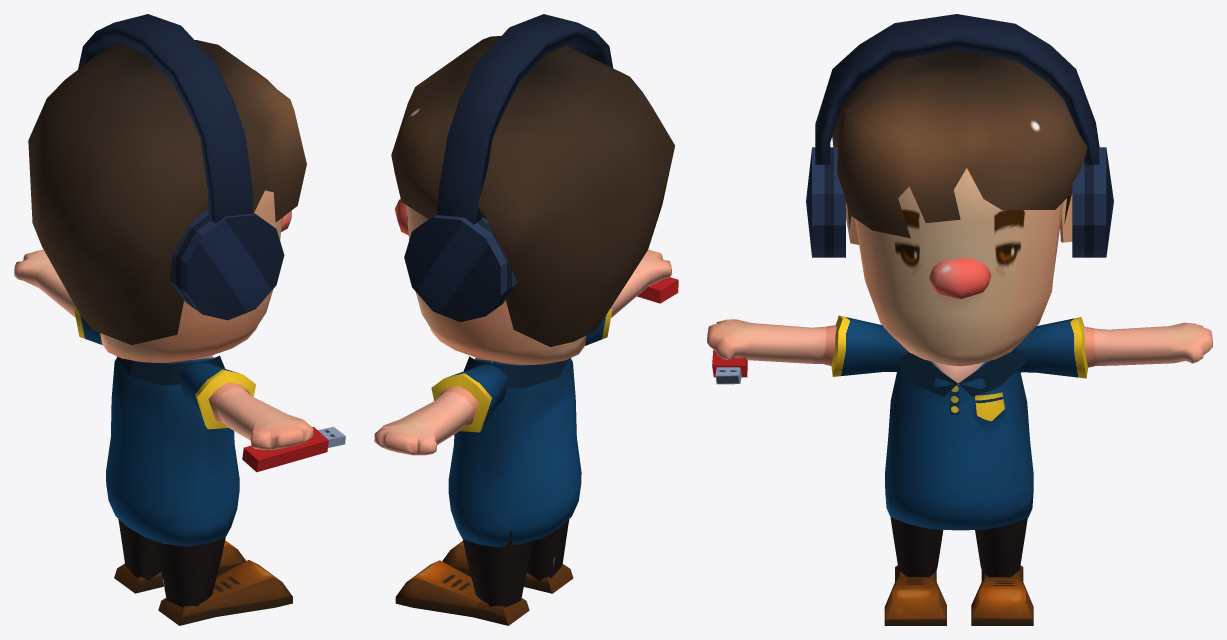
File: Char_Cre_Ent_03.fbx
3 renders of one model, left to right at view 1: azimuth 30°, elevation 25°; view 2: azimuth 150°, elevation 25°; view 3: azimuth 270°, elevation 25°, orthographic.
Visible parts, largest first — view 1: Hair_Editor, Headset_Editor, Body_Editor, R_Leg_Editor, R_Arm_Editor, Head_Editor, L_Leg_Editor, L_Arm_Editor, Board_Editor, Collar_Editor; view 2: Hair_Editor, Headset_Editor, Body_Editor, L_Leg_Editor, L_Arm_Editor, Head_Editor, R_Leg_Editor, R_Arm_Editor, Collar_Editor, Board_Editor; view 3: Hair_Editor, Head_Editor, Body_Editor, Headset_Editor, L_Arm_Editor, R_Arm_Editor, R_Leg_Editor, L_Leg_Editor, Collar_Editor, Nose_Editor, Board_Editor.
Part boxes in pixels (x1,y1,x2,y2): Hair_Editor: (28,40,306,345); Headset_Editor: (78,14,284,320); Body_Editor: (106,355,239,546); R_Leg_Editor: (154,537,292,625); R_Arm_Editor: (177,362,313,449); Head_Editor: (100,190,282,362); L_Leg_Editor: (114,519,245,593); L_Arm_Editor: (14,249,102,344); Board_Editor: (242,426,345,472); Collar_Editor: (117,355,224,385); Hair_Editor: (391,36,674,346); Headset_Editor: (404,14,612,322); Body_Editor: (448,357,581,547); L_Leg_Editor: (395,531,533,625); L_Arm_Editor: (374,365,509,455); Head_Editor: (406,205,586,364); R_Leg_Editor: (442,519,573,593); R_Arm_Editor: (585,249,671,345); Collar_Editor: (464,356,568,388); Board_Editor: (637,277,678,303); Hair_Editor: (832,49,1087,238); Head_Editor: (855,168,1063,366); Body_Editor: (885,360,1033,530); Headset_Editor: (806,14,1113,257); L_Arm_Editor: (1014,317,1212,378); R_Arm_Editor: (707,315,907,376); R_Leg_Editor: (884,517,946,625); L_Leg_Editor: (971,518,1033,625); Collar_Editor: (894,348,1027,396); Nose_Editor: (929,258,991,298); Board_Editor: (712,349,747,384).
Bounding box in the file's own units: 3.81 × 8.18 × 6.72.
